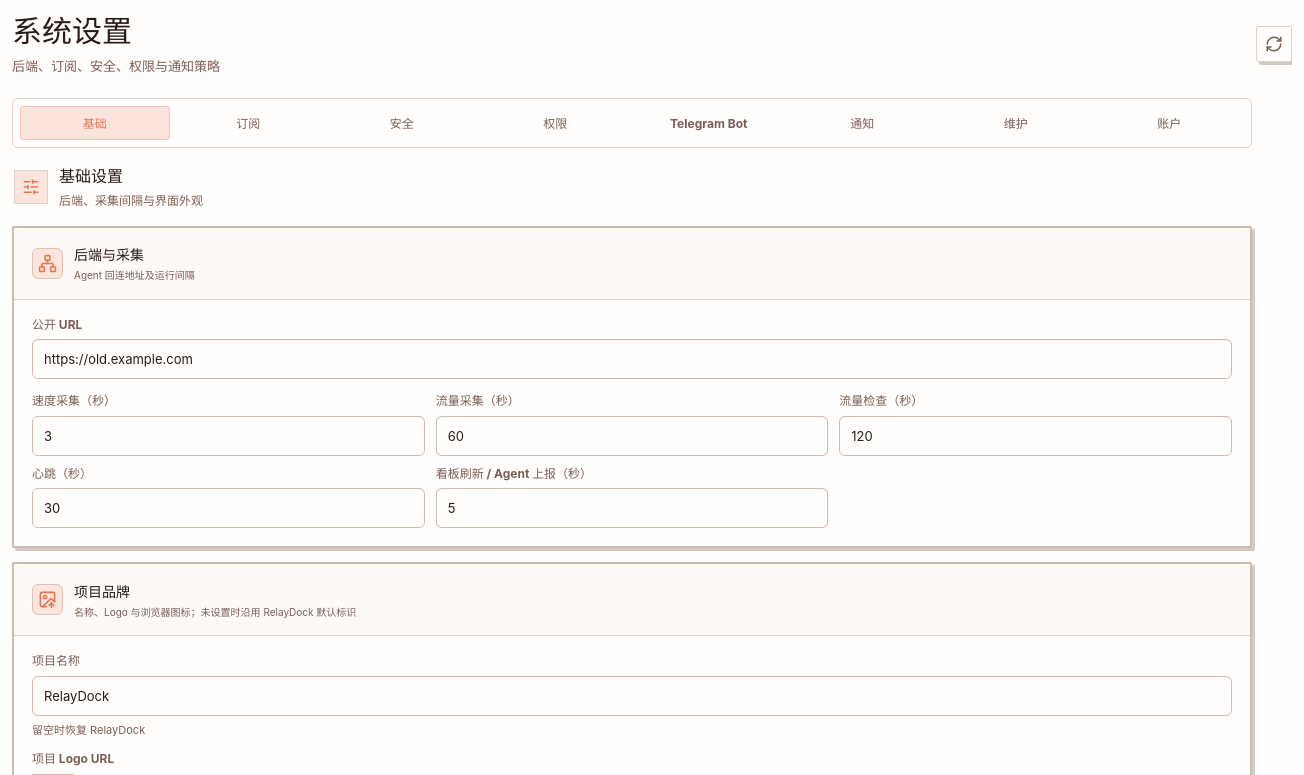
Scenario: settings workbench › does not offer automatic Mihomo installation on unsupported platforms
Click the tab "维护": [1016, 123] box [941, 106, 1090, 140]
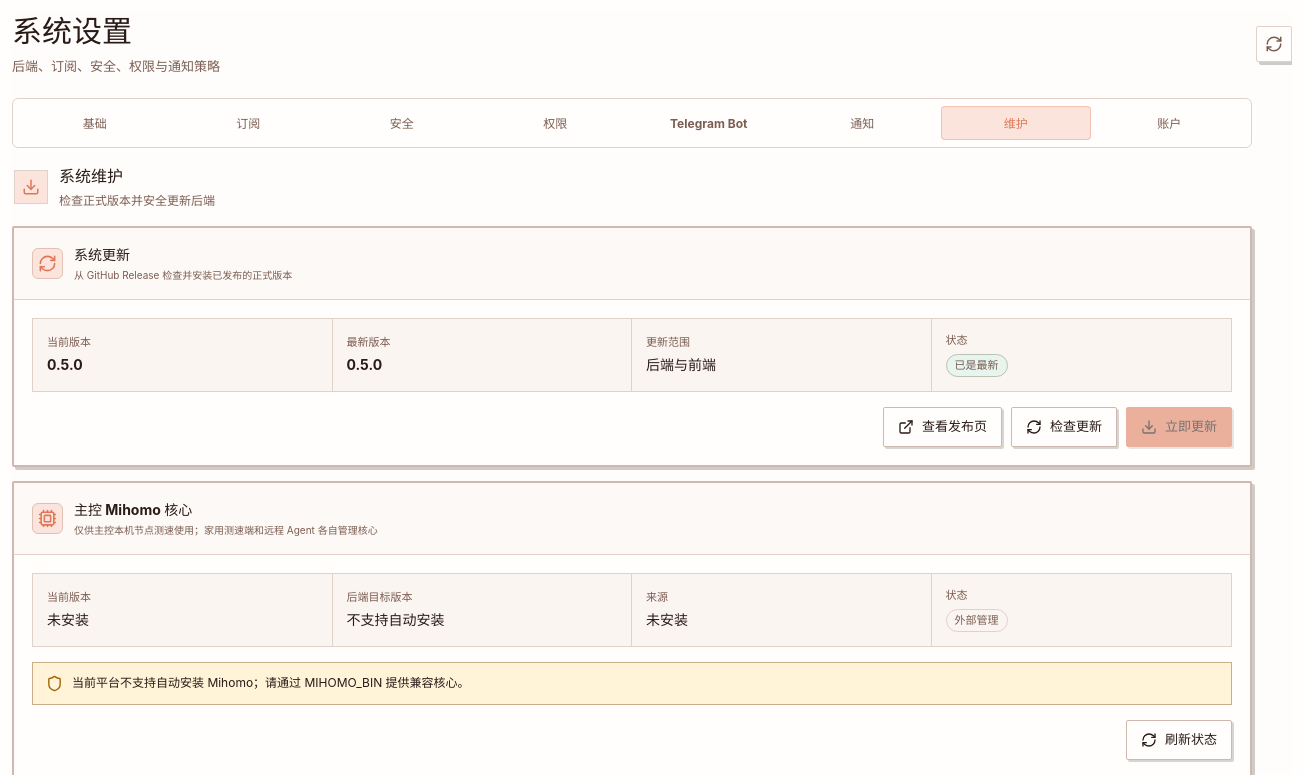
Now the text "当前平台不支持自动安装 Mihomo；请通过 MIHOMO_BIN 提供兼容核心。" is shown, box [72, 674, 470, 693]
